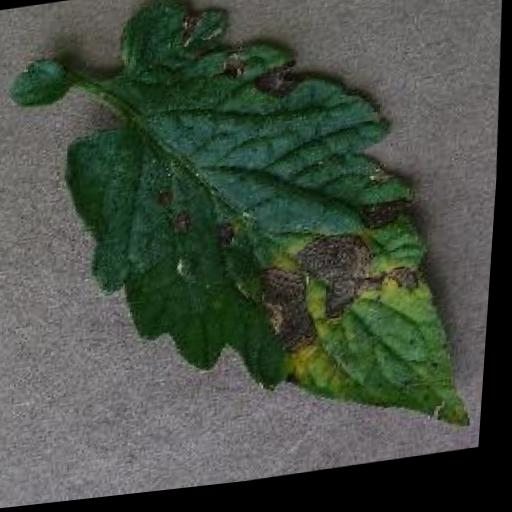Early Blight: (42, 0, 500, 489)
